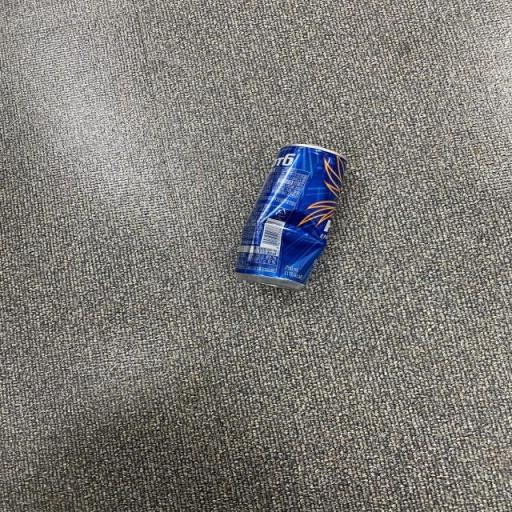metal: (210, 129, 373, 306)
